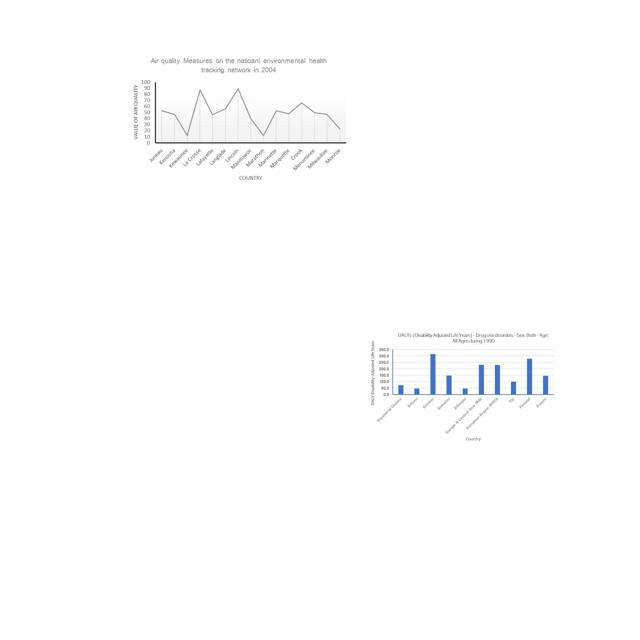Graph: (127, 54, 350, 185), (369, 330, 556, 445)
